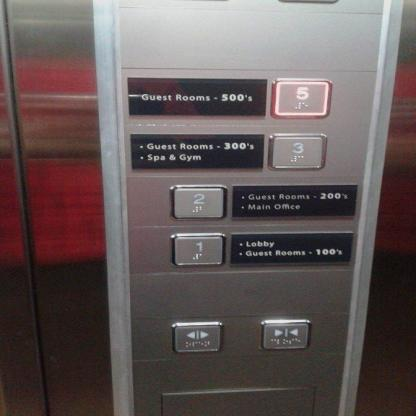1: (167, 230, 226, 267)
2: (166, 182, 229, 223)
3: (265, 130, 328, 172)
5: (268, 76, 333, 120)
close: (258, 318, 311, 352)
open: (167, 319, 224, 355)
